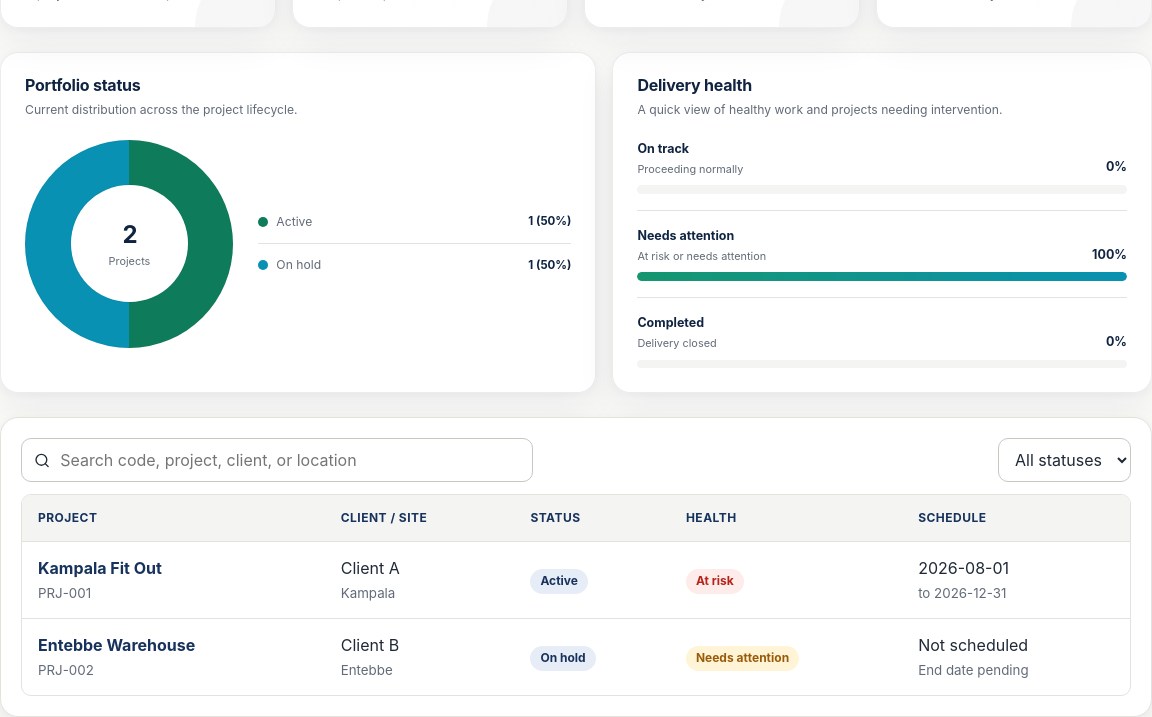
ProjectsListPage › filters projects by search and status
(page scrolled)
Expected: the link "Kampala Fit Out" is shown, left=38, top=558, right=162, bottom=578
Type "Entebbe" into the search field named "search projects".
click(289, 460); type("Entebbe")  # box left=58, top=447, right=520, bottom=473
(page scrolled)
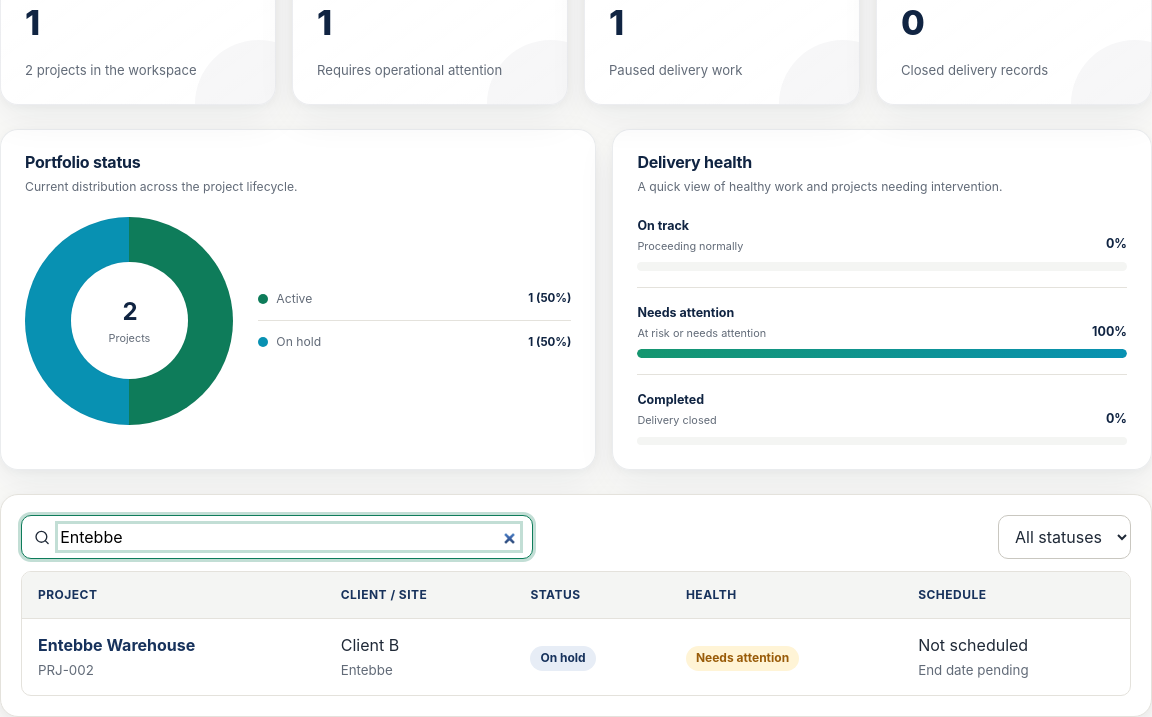
Expected: the link "Entebbe Warehouse" is shown, left=38, top=635, right=195, bottom=655
Expected: the link "Kampala Fit Out" is gone
